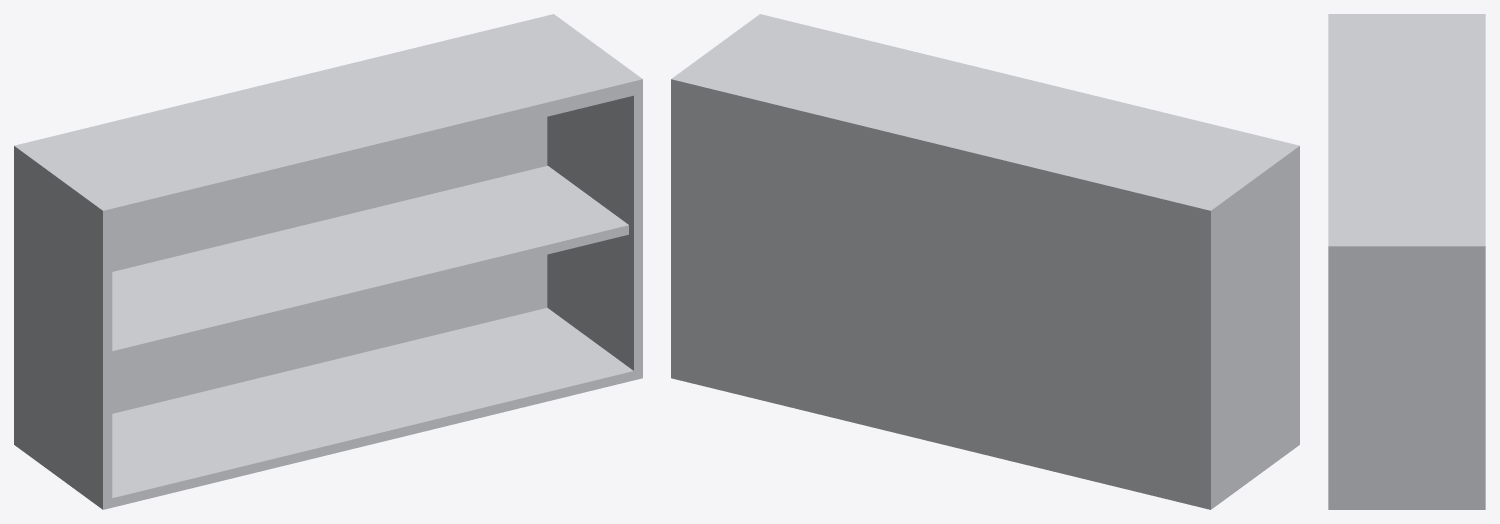
Rendered from wallGlassCabinet.dae.
3 views of the same model, side by side, from view 1: azimuth 30°, elevation 25°; view 2: azimuth 150°, elevation 25°; view 3: azimuth 270°, elevation 25° (orthographic). The views are drawn at different scales.
Parts seen in each view (by area): view 1: _307-658.dwg (×2); view 2: _307-658.dwg; view 3: _307-658.dwg.
Boxes of the visible parts, box(x1,y1,x2,y2) form: _307-658.dwg (×2): box(14, 14, 642, 509); _307-658.dwg: box(671, 14, 1299, 509); _307-658.dwg: box(1328, 14, 1485, 509).
Bounding box in the file's own units: 46.85 × 13.39 × 24.8.
Materials: 1 (1 with a texture image).
